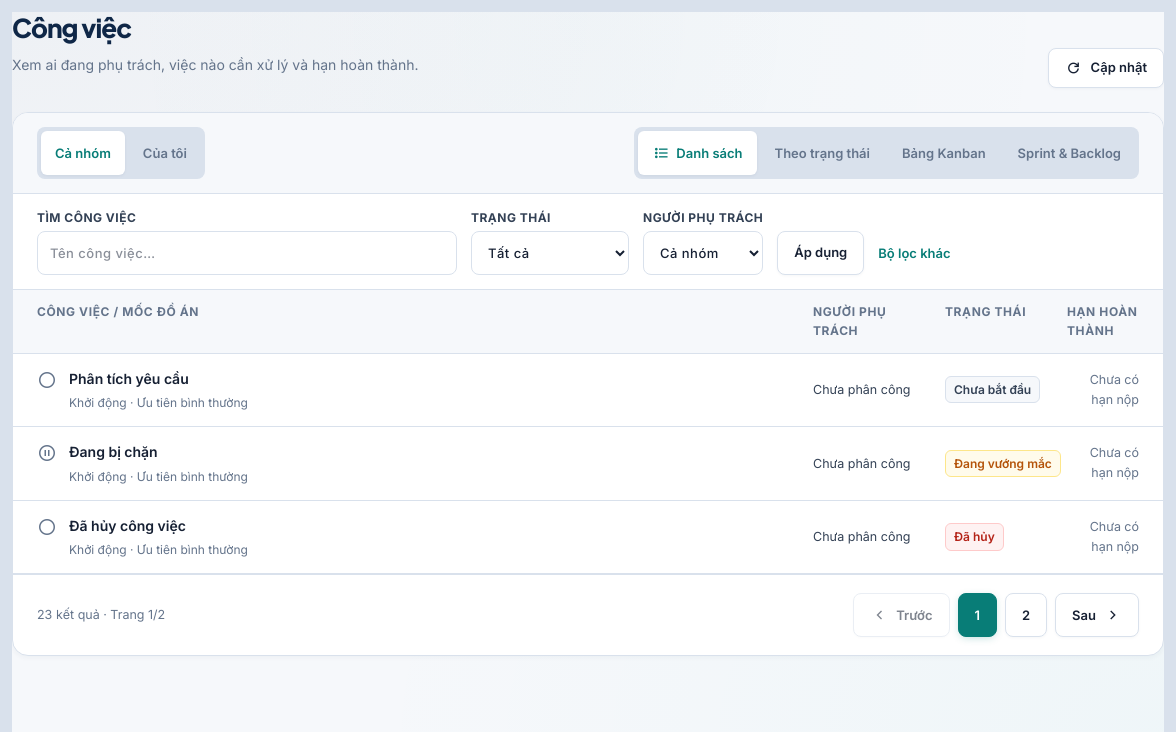
Test: TaskBoardPage › shows a paged board using backend statuses without hiding blocked or cancelled tasks
This screenshot has width=1176, height=732.
Expected: the text "Phân tích yêu cầu" is shown, [69,370,189,387]
Click the button "Bảng Kanban".
click(944, 153)  # box [888,131,1000,175]
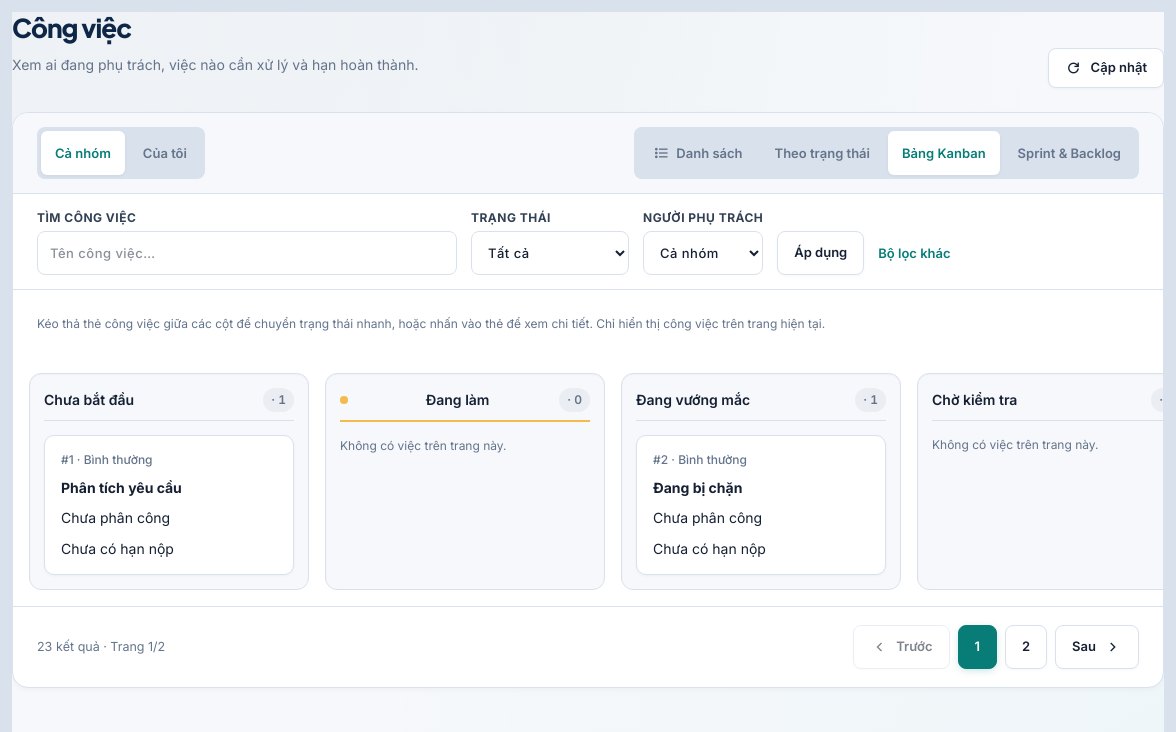
Expected: the element named "Bảng công việc theo trang" is shown, [13,357,1163,606]
Expected: the link "#2 · Bình thường Đang bị chặn Chưa phân công Chưa có hạn nộp" is shown, [636,435,886,575]
Expected: the text "Chỉ hiển thị công việc trên trang hiện tại" is shown, [593,316,825,331]
